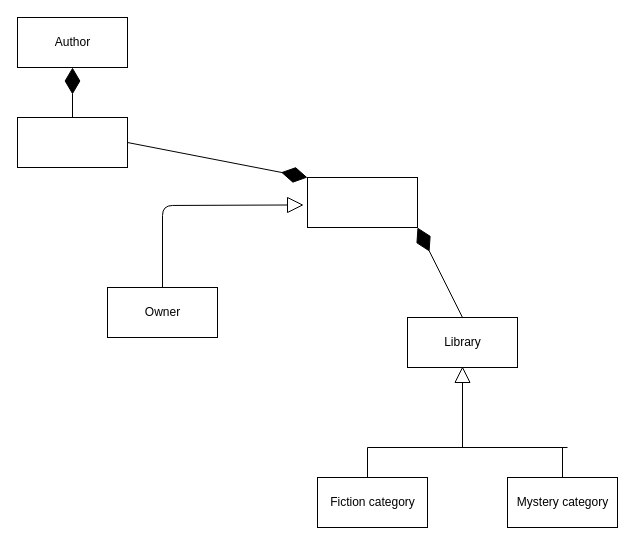
This 635x545 diagram has some shape labels left out. Each missing label, with the centre of its shape:
Book: (362,202)
Publisher: (72,142)
